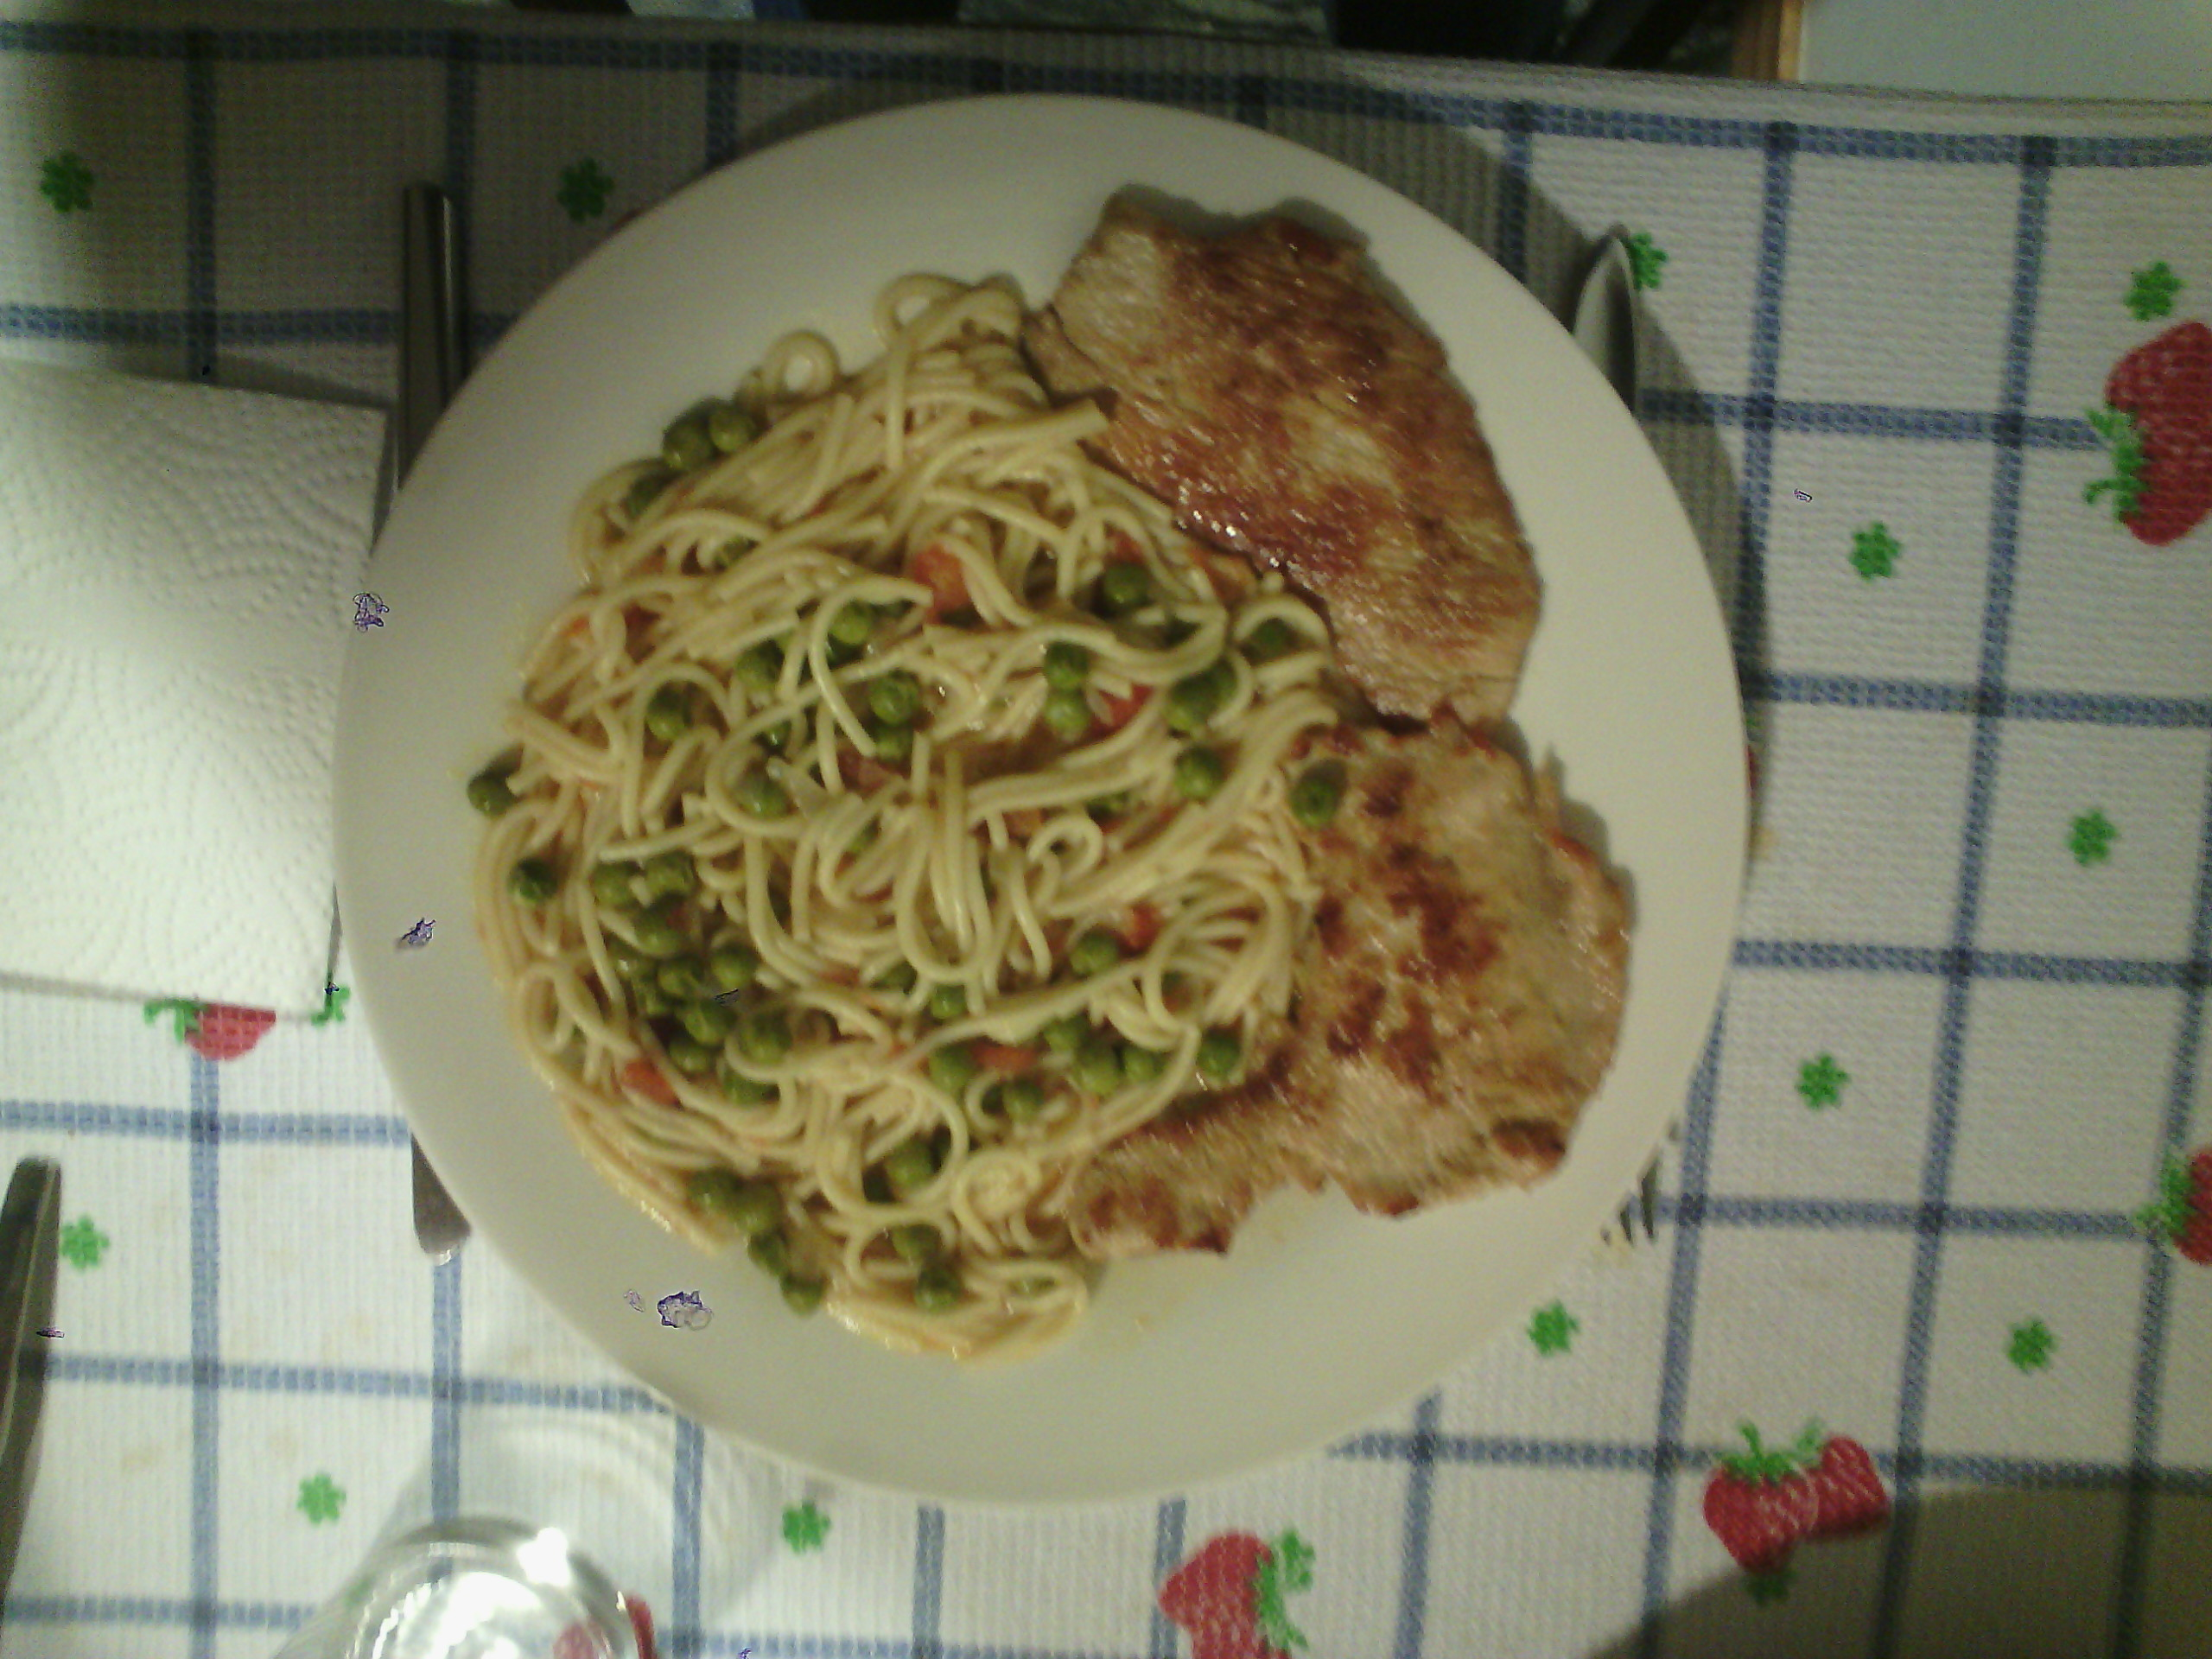81-100: (333, 98, 1752, 1509)
